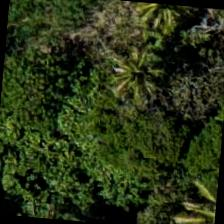Kelapa_Sawit: (92, 29, 190, 128), (116, 0, 210, 55)
